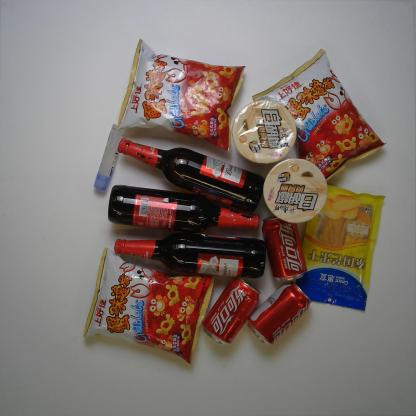Alcohol: (117, 138, 265, 212), (107, 184, 260, 233), (114, 233, 266, 279)
Dried Fruit: (296, 185, 386, 312)
Drink: (247, 280, 312, 346), (200, 277, 261, 346), (262, 216, 307, 282)
Instant Noodles: (231, 100, 297, 166), (262, 158, 328, 224)
Puffed Food: (250, 48, 387, 183), (82, 247, 216, 366), (116, 36, 246, 153)
Stationery: (94, 124, 126, 191)
